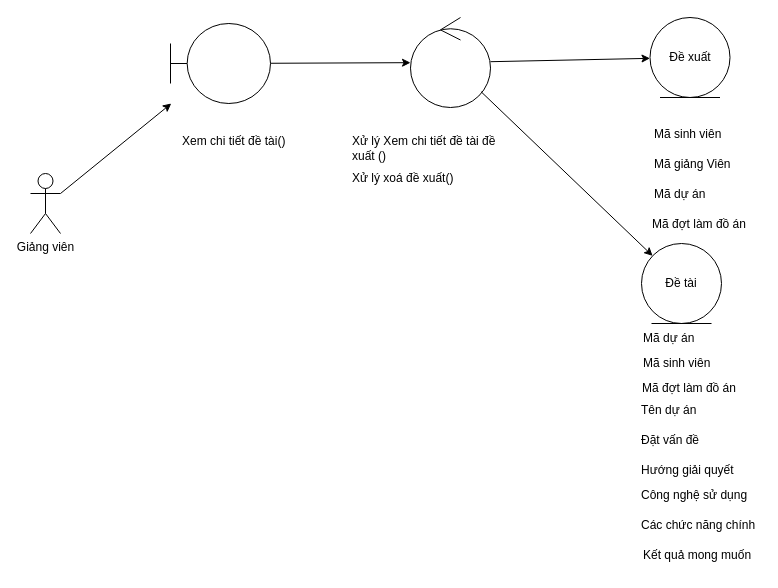
The diagram is 778 pixels wide and 588 high, and some of its shapes have lost their labels. The box of each missing label's shape, as (x1, y1, x2, y2) in pixels:
CTL_Đề xuất: (410, 16, 490, 108)
GUI_Quản lý đề xuất sinh viên: (170, 22, 270, 104)
